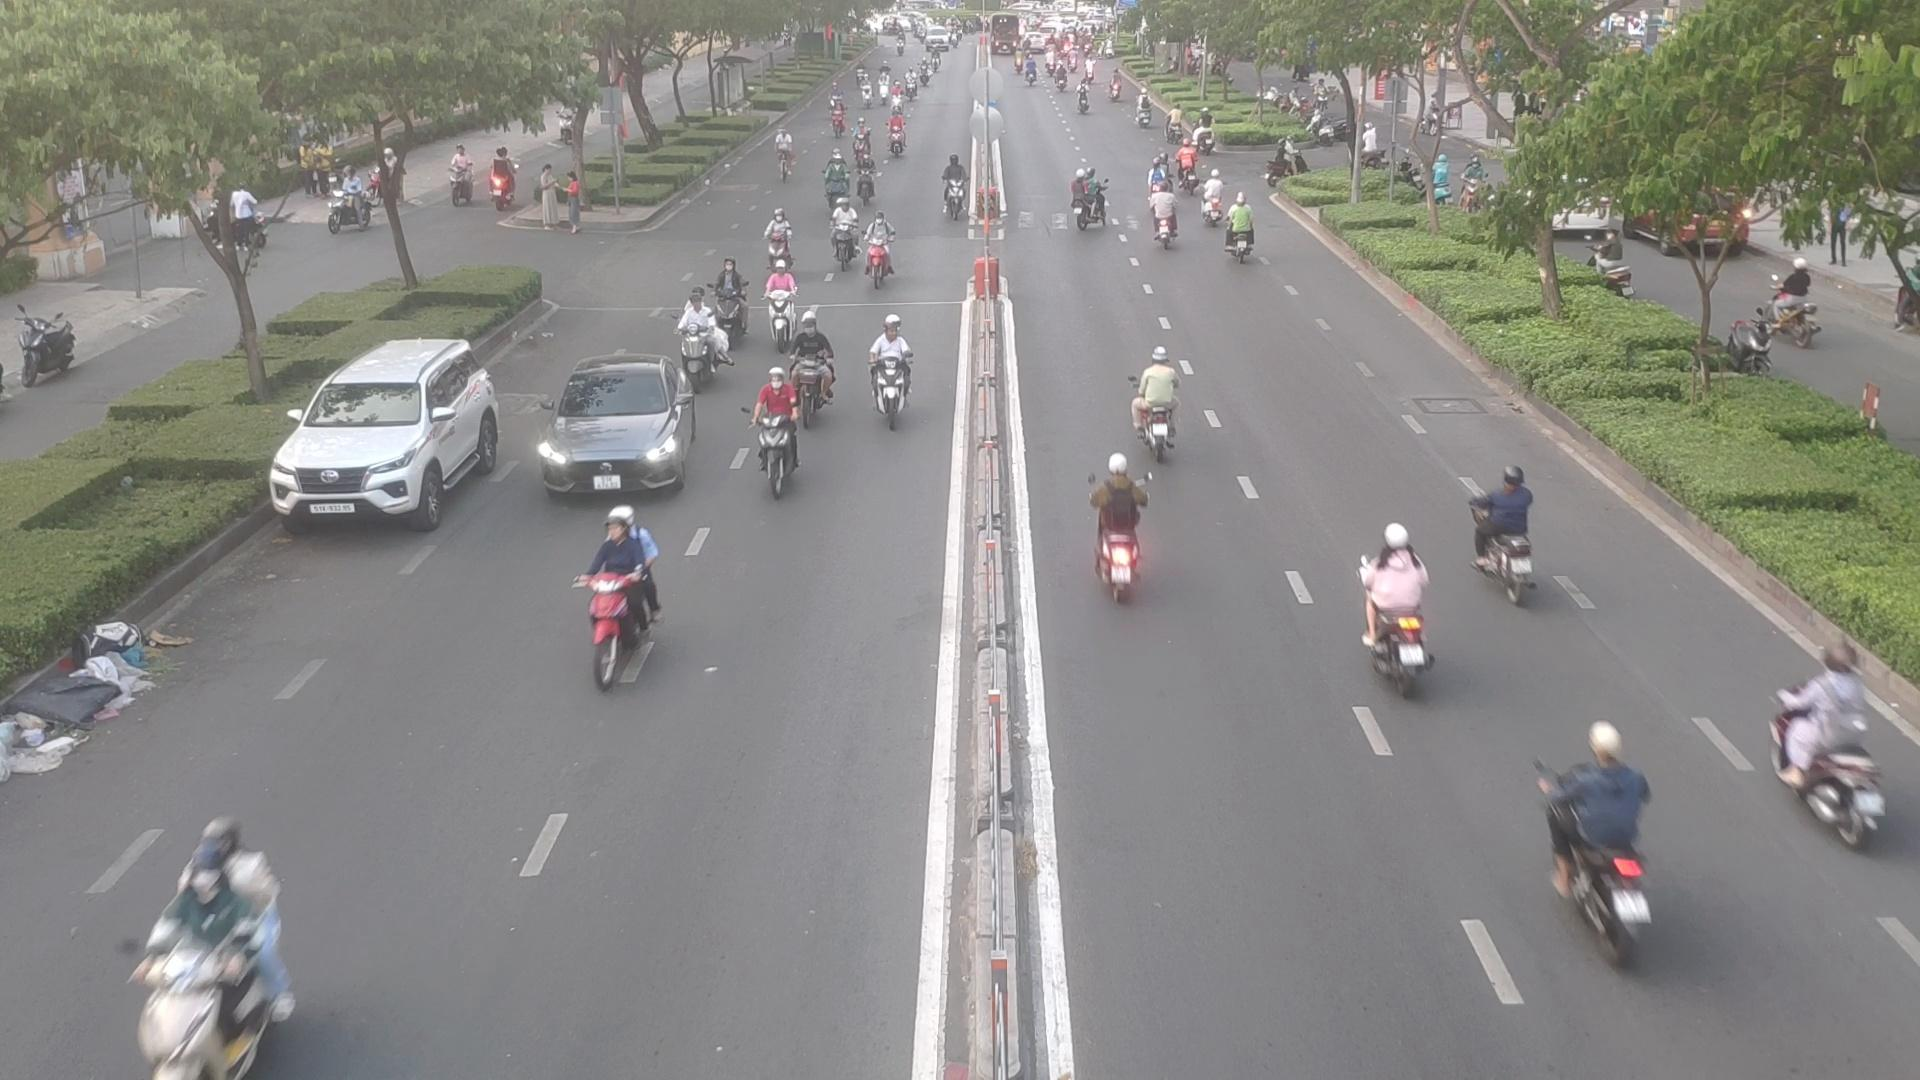car: (272, 339, 516, 530), (543, 357, 702, 495)
motorbike: (127, 825, 295, 1077), (1549, 728, 1672, 963), (1770, 649, 1916, 845), (571, 516, 669, 682), (1358, 529, 1448, 694), (1473, 463, 1542, 593), (744, 372, 807, 495), (1129, 352, 1191, 456), (865, 316, 911, 439), (789, 313, 833, 417), (673, 306, 725, 381), (705, 261, 753, 334), (1059, 167, 1112, 232), (762, 262, 796, 344), (858, 224, 899, 290), (1225, 200, 1263, 264), (829, 194, 857, 266), (938, 156, 971, 214), (765, 211, 795, 270), (1168, 146, 1200, 195), (824, 142, 848, 204), (851, 150, 877, 203), (882, 117, 911, 160), (851, 121, 872, 164)
